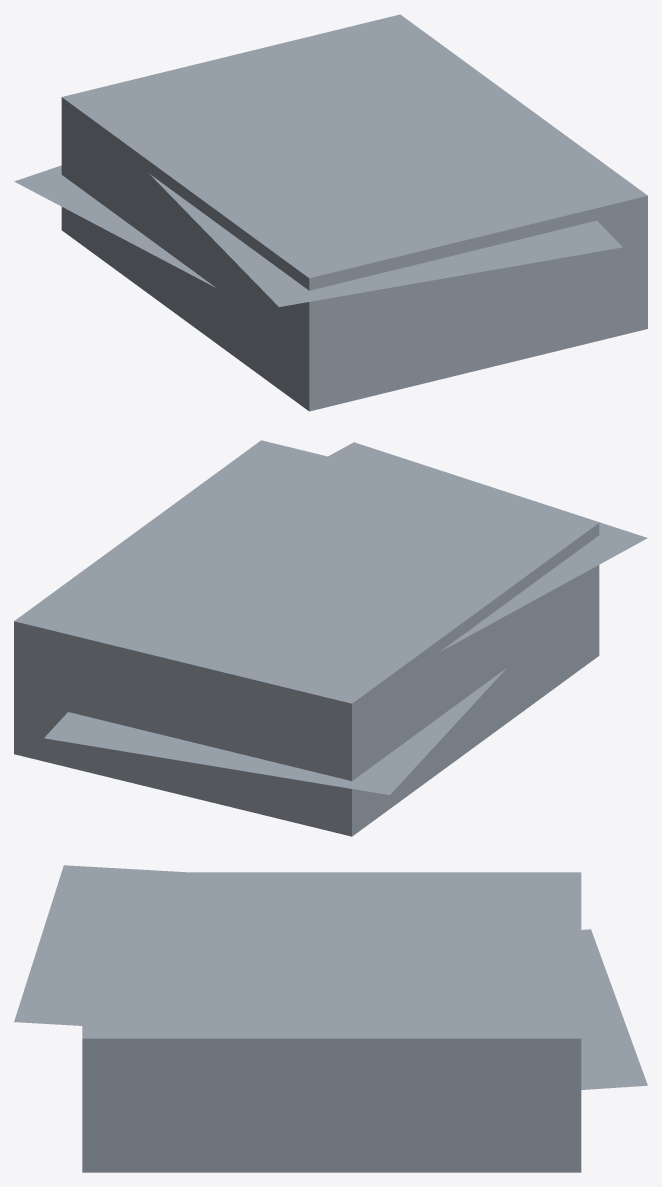
File: Pila de hojas.fbx
The picture shows the model from 3 angles, top to bottom: view 1: azimuth 30°, elevation 25°; view 2: azimuth 150°, elevation 25°; view 3: azimuth 270°, elevation 25°; orthographic projection.
Visible parts, largest first — view 1: pCube8, pPlane2, pPlane1; view 2: pCube8, pPlane1, pPlane2; view 3: pCube8, pPlane2, pPlane1.
Part boxes in pixels (box(x1,y1,x2,y2)): pCube8: box(61, 14, 647, 411); pPlane2: box(150, 174, 622, 306); pPlane1: box(14, 165, 215, 287); pCube8: box(14, 440, 599, 836); pPlane1: box(44, 668, 506, 794); pPlane2: box(328, 442, 647, 651); pCube8: box(82, 872, 581, 1172); pPlane2: box(14, 865, 184, 1025); pPlane1: box(581, 929, 647, 1089).
Bounding box in the file's own units: 0.3854 × 0.1286 × 0.551.
